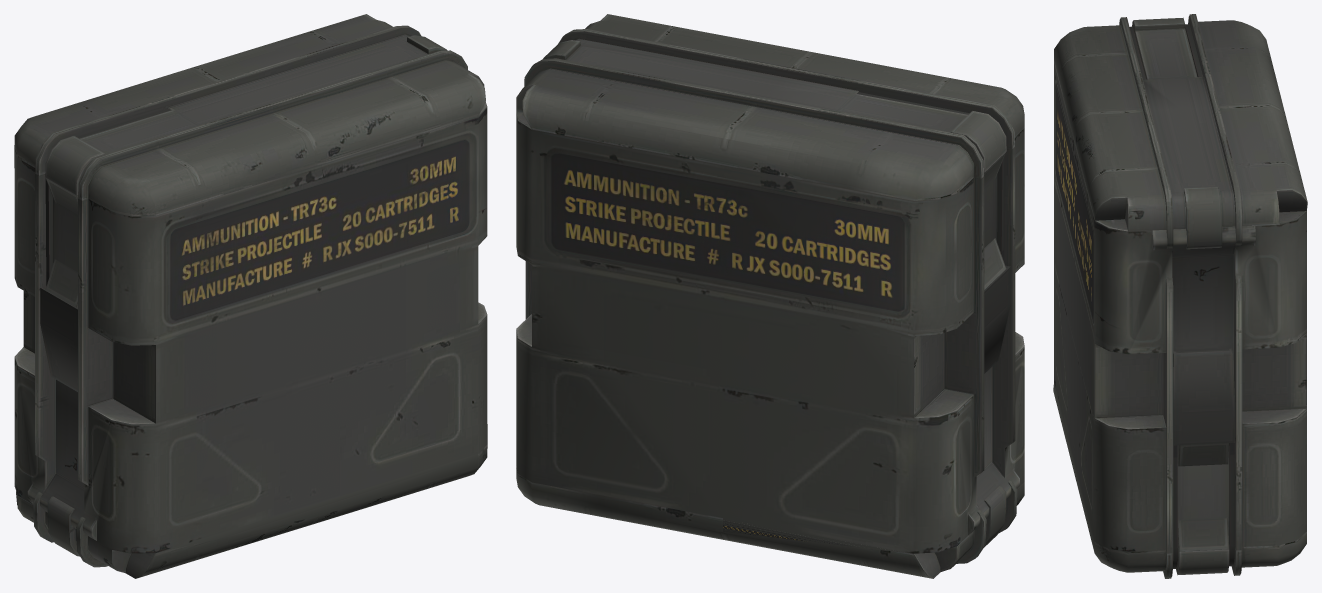
Rendered from VV_ammo_can_small.fbx.
3 views of the same model, side by side, from view 1: azimuth 30°, elevation 25°; view 2: azimuth 150°, elevation 25°; view 3: azimuth 270°, elevation 25° (orthographic). The views are drawn at different scales.
Parts seen in each view (by area): view 1: VV_ammo_can_small; view 2: VV_ammo_can_small; view 3: VV_ammo_can_small.
Boxes of the visible parts, x1,y1,x2,y2 form: VV_ammo_can_small: (14,14,487,578); VV_ammo_can_small: (516,14,1024,578); VV_ammo_can_small: (1053,14,1307,578).
Bounding box in the file's own units: 62.42 × 57.91 × 34.32.
3 materials, 3 textured.
